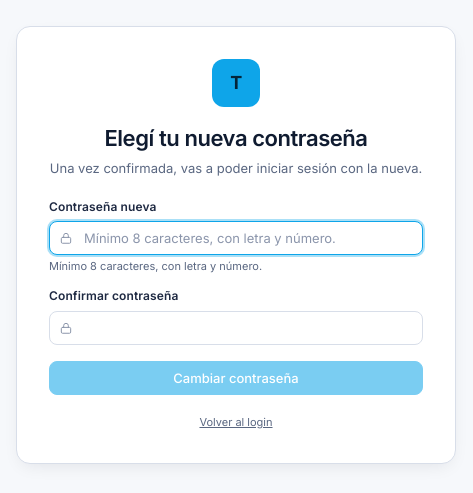
Test: ResetPassword › password que no coincide con confirm muestra error de match
The width and height of the screenshot is (473, 493).
Type "MiPass123" into the password field labelled "Contraseña nueva".
click(236, 238); type("MiPass123")  # box [49,221,423,255]
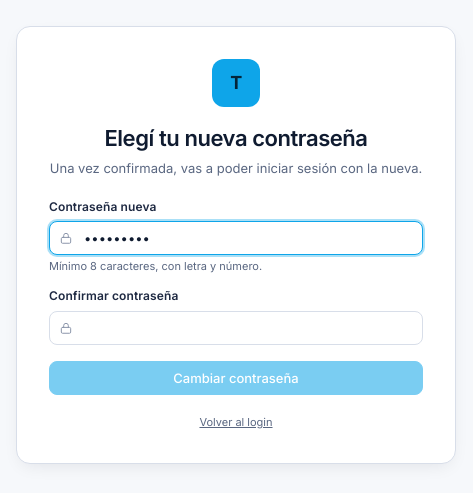
Type "MiPass999" into the password field labelled "Confirmar contraseña".
click(236, 328); type("MiPass999")  # box [49,311,423,345]
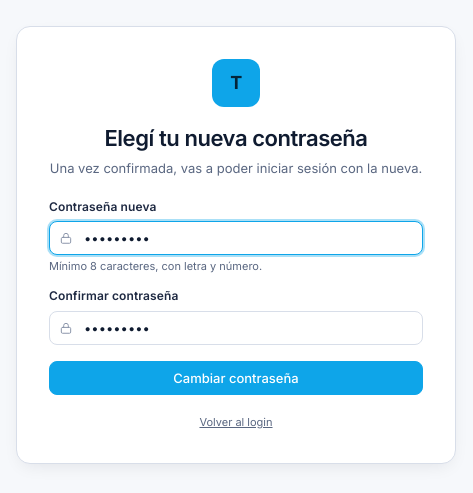
Click the button "Cambiar contraseña".
click(236, 378)  # box [49,361,423,395]
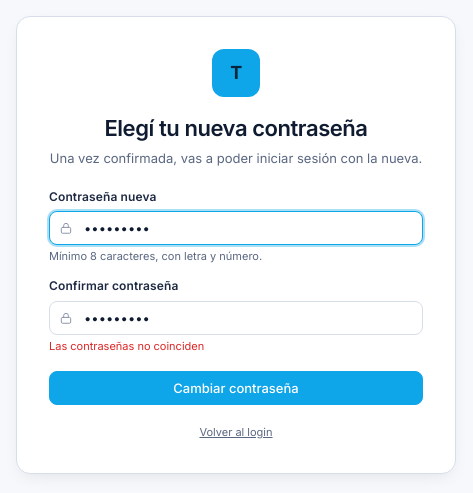
Check: the text "Las contraseñas no coinciden" is shown, box [49,339,204,353]
